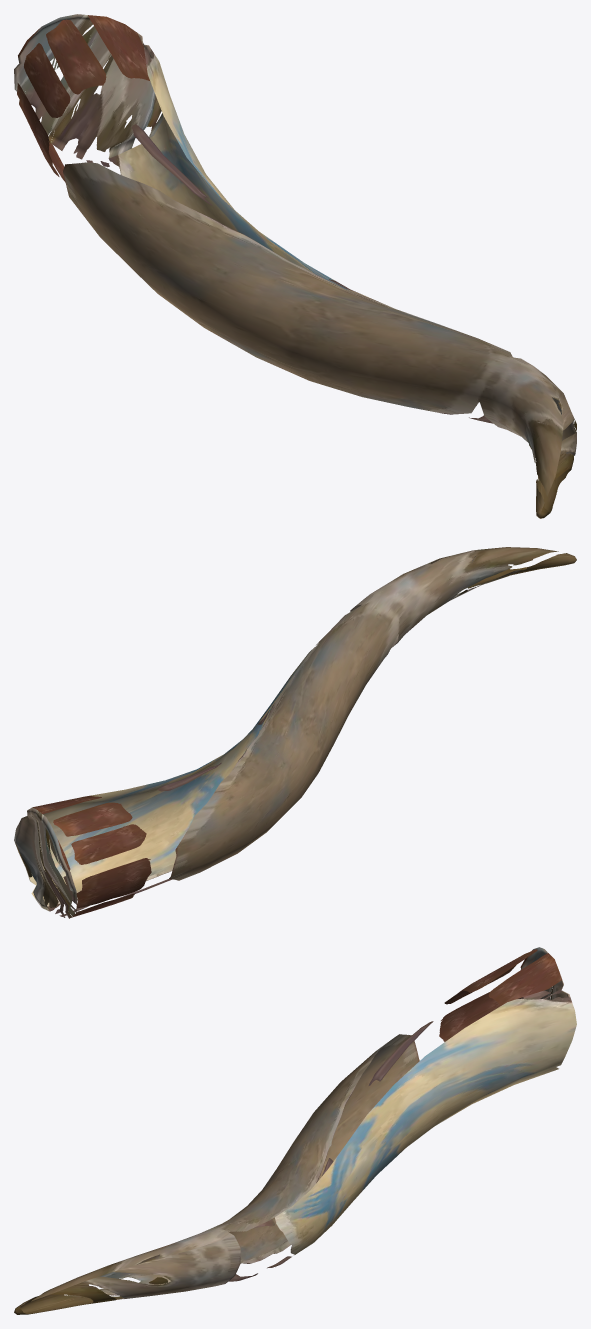
The picture shows the model from 3 angles, top to bottom: view 1: azimuth 30°, elevation 25°; view 2: azimuth 150°, elevation 25°; view 3: azimuth 330°, elevation 25°; orthographic projection. The views are drawn at different scales.
Visible parts, largest first — view 1: SM_Dec_Garou_Music_Instruments_01_LOD0; view 2: SM_Dec_Garou_Music_Instruments_01_LOD0; view 3: SM_Dec_Garou_Music_Instruments_01_LOD0.
Boxes of the visible parts, x1,y1,x2,y2 form: SM_Dec_Garou_Music_Instruments_01_LOD0: [14, 14, 576, 518]; SM_Dec_Garou_Music_Instruments_01_LOD0: [14, 547, 576, 918]; SM_Dec_Garou_Music_Instruments_01_LOD0: [14, 947, 576, 1314].
Bounding box in the file's own units: 0.2601 × 0.2391 × 1.59.
